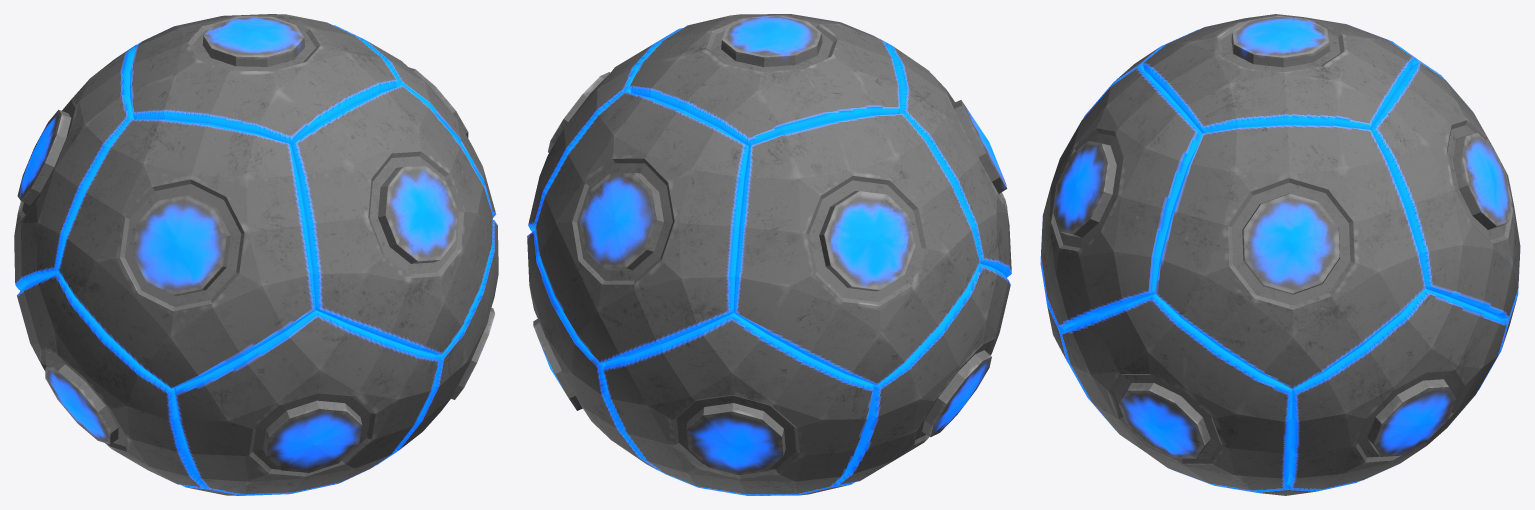
The model's file is ballBlueV1.fbx.
3 views of the same model, side by side, from view 1: azimuth 30°, elevation 25°; view 2: azimuth 150°, elevation 25°; view 3: azimuth 270°, elevation 25° (orthographic).
Parts seen in each view (by area): view 1: ballBlue_GEO; view 2: ballBlue_GEO; view 3: ballBlue_GEO.
Boxes of the visible parts, x1,y1,x2,y2 form: ballBlue_GEO: [14, 14, 498, 495]; ballBlue_GEO: [527, 14, 1011, 495]; ballBlue_GEO: [1040, 14, 1520, 495].
Size of the model in its own units: 0.0151 by 0.0154 by 0.0151.
